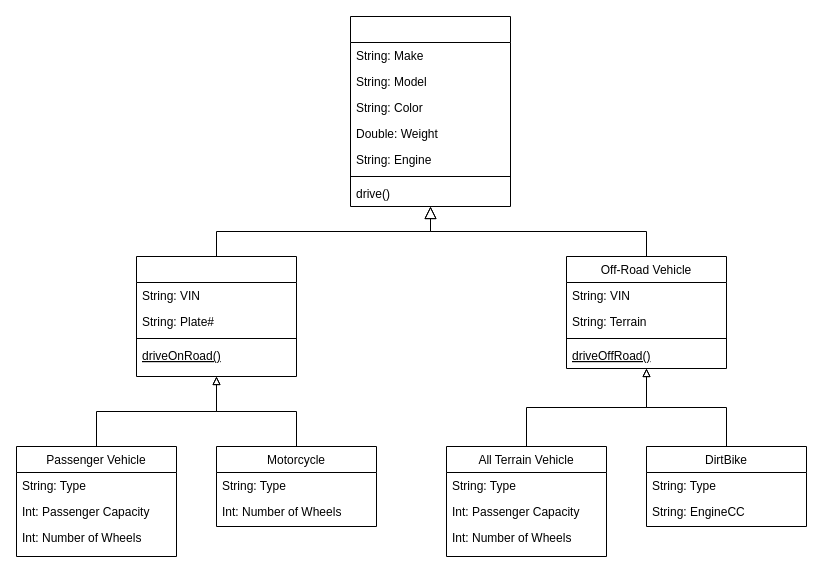
This 823x573 diagram has some shape labels left out. Here are the shapes that lost their labels. From the top down, the box of each, then its label:
(350, 16, 510, 206): Vahicle
(136, 256, 296, 376): Road Legal Vehicle
